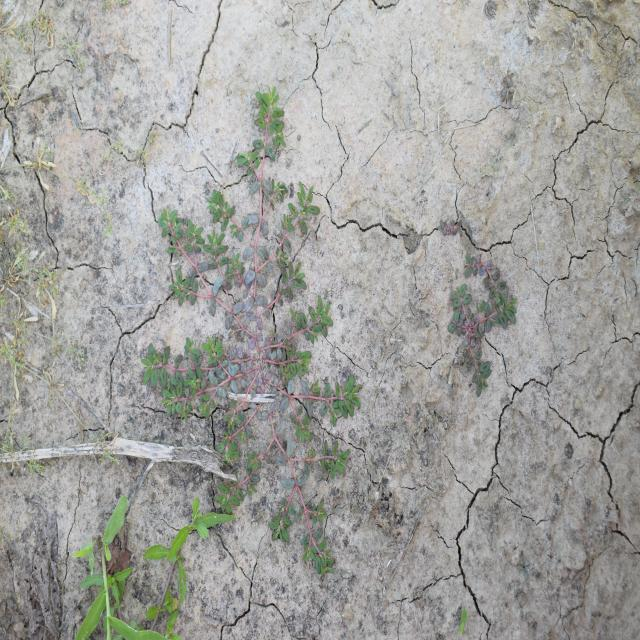Carpetweed: (1, 6, 125, 468)
Eclipta: (140, 498, 238, 638)
SpottedSpurge: (137, 82, 364, 582), (444, 251, 518, 400)
